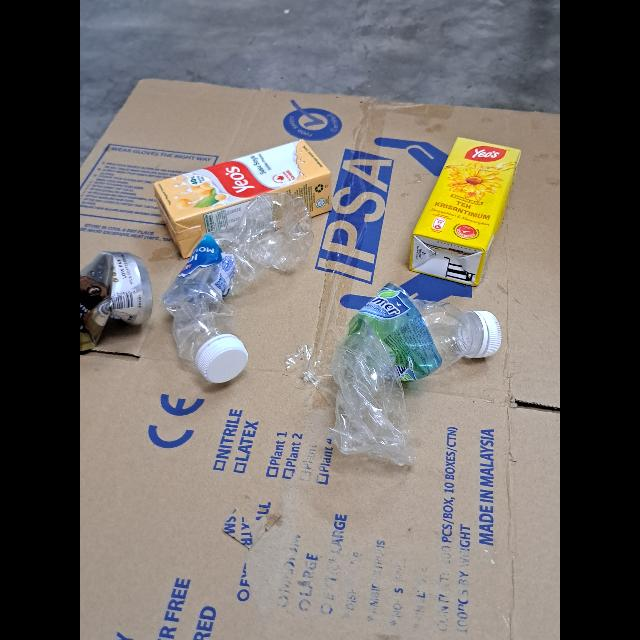caixinha: (152, 139, 334, 259), (407, 137, 521, 287)
garrafa plástica: (328, 281, 484, 467), (162, 192, 314, 362)
lata: (80, 251, 154, 353)
papelão: (80, 76, 560, 640)
tampa plástica: (197, 336, 249, 384), (467, 310, 503, 358)
